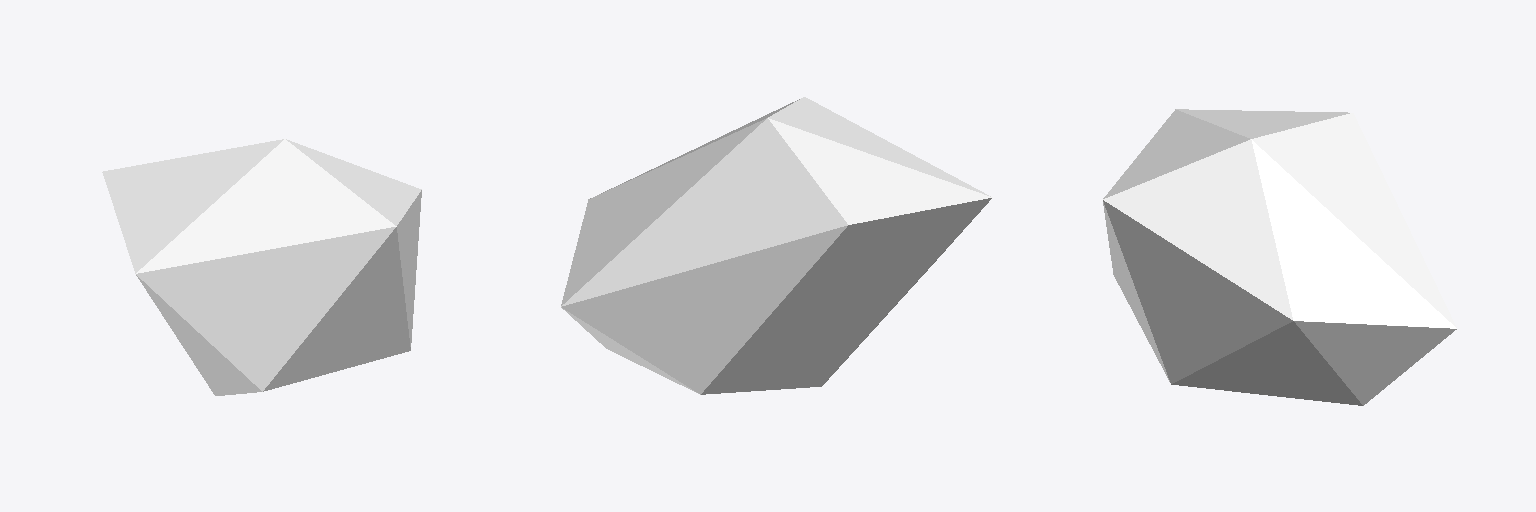
Rendered from 9qp6qsevdpky.obj.
3 views of the same model, side by side, from view 1: azimuth 30°, elevation 25°; view 2: azimuth 150°, elevation 25°; view 3: azimuth 270°, elevation 25° (orthographic).
Parts seen in each view (by area): view 1: Icosphere.002; view 2: Icosphere.002; view 3: Icosphere.002.
Part boxes in pixels (bbox=[...]): Icosphere.002: bbox=[102, 139, 421, 395]; Icosphere.002: bbox=[561, 97, 992, 394]; Icosphere.002: bbox=[1103, 109, 1456, 405].
Size of the model in its own units: 0.2314 by 0.1587 by 0.2057.